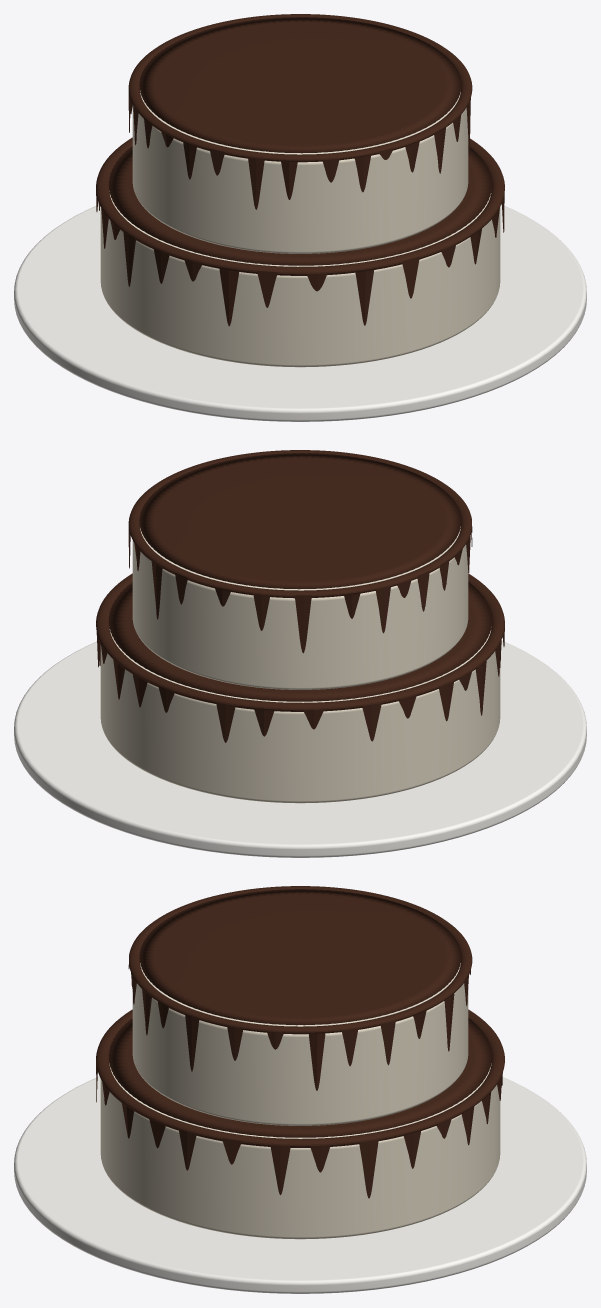
Rendered from round_2_tier.glb.
3 renders of one model, top to bottom at view 1: azimuth 30°, elevation 25°; view 2: azimuth 150°, elevation 25°; view 3: azimuth 270°, elevation 25°, orthographic.
Visible parts, largest first — view 1: round_2_board, round_2_L2_round_photo_photo_drip_glossy_top_cap, round_2_L1_body, round_2_L2_body, round_2_L1_round_photo_thick_smooth_chocolate_band, round_2_L2_round_photo_thick_smooth_chocolate_band, round_2_L1_round_photo_photo_drip_glossy_top_cap, round_2_L1_top, round_2_L2_top; view 2: round_2_board, round_2_L2_round_photo_photo_drip_glossy_top_cap, round_2_L1_body, round_2_L2_body, round_2_L1_round_photo_thick_smooth_chocolate_band, round_2_L2_round_photo_thick_smooth_chocolate_band, round_2_L1_round_photo_photo_drip_glossy_top_cap, round_2_L1_top, round_2_L2_top; view 3: round_2_board, round_2_L2_round_photo_photo_drip_glossy_top_cap, round_2_L1_body, round_2_L2_body, round_2_L1_round_photo_thick_smooth_chocolate_band, round_2_L2_round_photo_thick_smooth_chocolate_band, round_2_L1_round_photo_photo_drip_glossy_top_cap, round_2_L1_top, round_2_L2_top.
Boxes of the visible parts, x1=… form: round_2_board: x1=14, y1=204, x2=586, y2=421; round_2_L2_round_photo_photo_drip_glossy_top_cap: x1=139, y1=17, x2=461, y2=153; round_2_L1_body: x1=100, y1=207, x2=500, y2=367; round_2_L2_body: x1=132, y1=105, x2=468, y2=253; round_2_L1_round_photo_thick_smooth_chocolate_band: x1=96, y1=137, x2=504, y2=326; round_2_L2_round_photo_thick_smooth_chocolate_band: x1=128, y1=14, x2=472, y2=209; round_2_L1_round_photo_photo_drip_glossy_top_cap: x1=108, y1=146, x2=492, y2=265; round_2_L1_top: x1=109, y1=191, x2=491, y2=266; round_2_L2_top: x1=140, y1=90, x2=460, y2=154; round_2_board: x1=14, y1=640, x2=586, y2=857; round_2_L2_round_photo_photo_drip_glossy_top_cap: x1=139, y1=453, x2=461, y2=589; round_2_L1_body: x1=100, y1=645, x2=500, y2=803; round_2_L2_body: x1=132, y1=540, x2=468, y2=689; round_2_L1_round_photo_thick_smooth_chocolate_band: x1=96, y1=573, x2=504, y2=742; round_2_L2_round_photo_thick_smooth_chocolate_band: x1=128, y1=450, x2=472, y2=653; round_2_L1_round_photo_photo_drip_glossy_top_cap: x1=108, y1=582, x2=492, y2=701; round_2_L1_top: x1=109, y1=627, x2=491, y2=702; round_2_L2_top: x1=140, y1=526, x2=460, y2=590; round_2_board: x1=14, y1=1076, x2=586, y2=1293; round_2_L2_round_photo_photo_drip_glossy_top_cap: x1=139, y1=889, x2=461, y2=1025; round_2_L1_body: x1=100, y1=1079, x2=500, y2=1239; round_2_L2_body: x1=132, y1=983, x2=468, y2=1125; round_2_L1_round_photo_thick_smooth_chocolate_band: x1=96, y1=1009, x2=504, y2=1198; round_2_L2_round_photo_thick_smooth_chocolate_band: x1=128, y1=886, x2=472, y2=1090; round_2_L1_round_photo_photo_drip_glossy_top_cap: x1=108, y1=1018, x2=492, y2=1137; round_2_L1_top: x1=109, y1=1063, x2=491, y2=1138; round_2_L2_top: x1=140, y1=963, x2=460, y2=1026.
Bounding box in the file's own units: 8.6 × 3.62 × 8.6.
